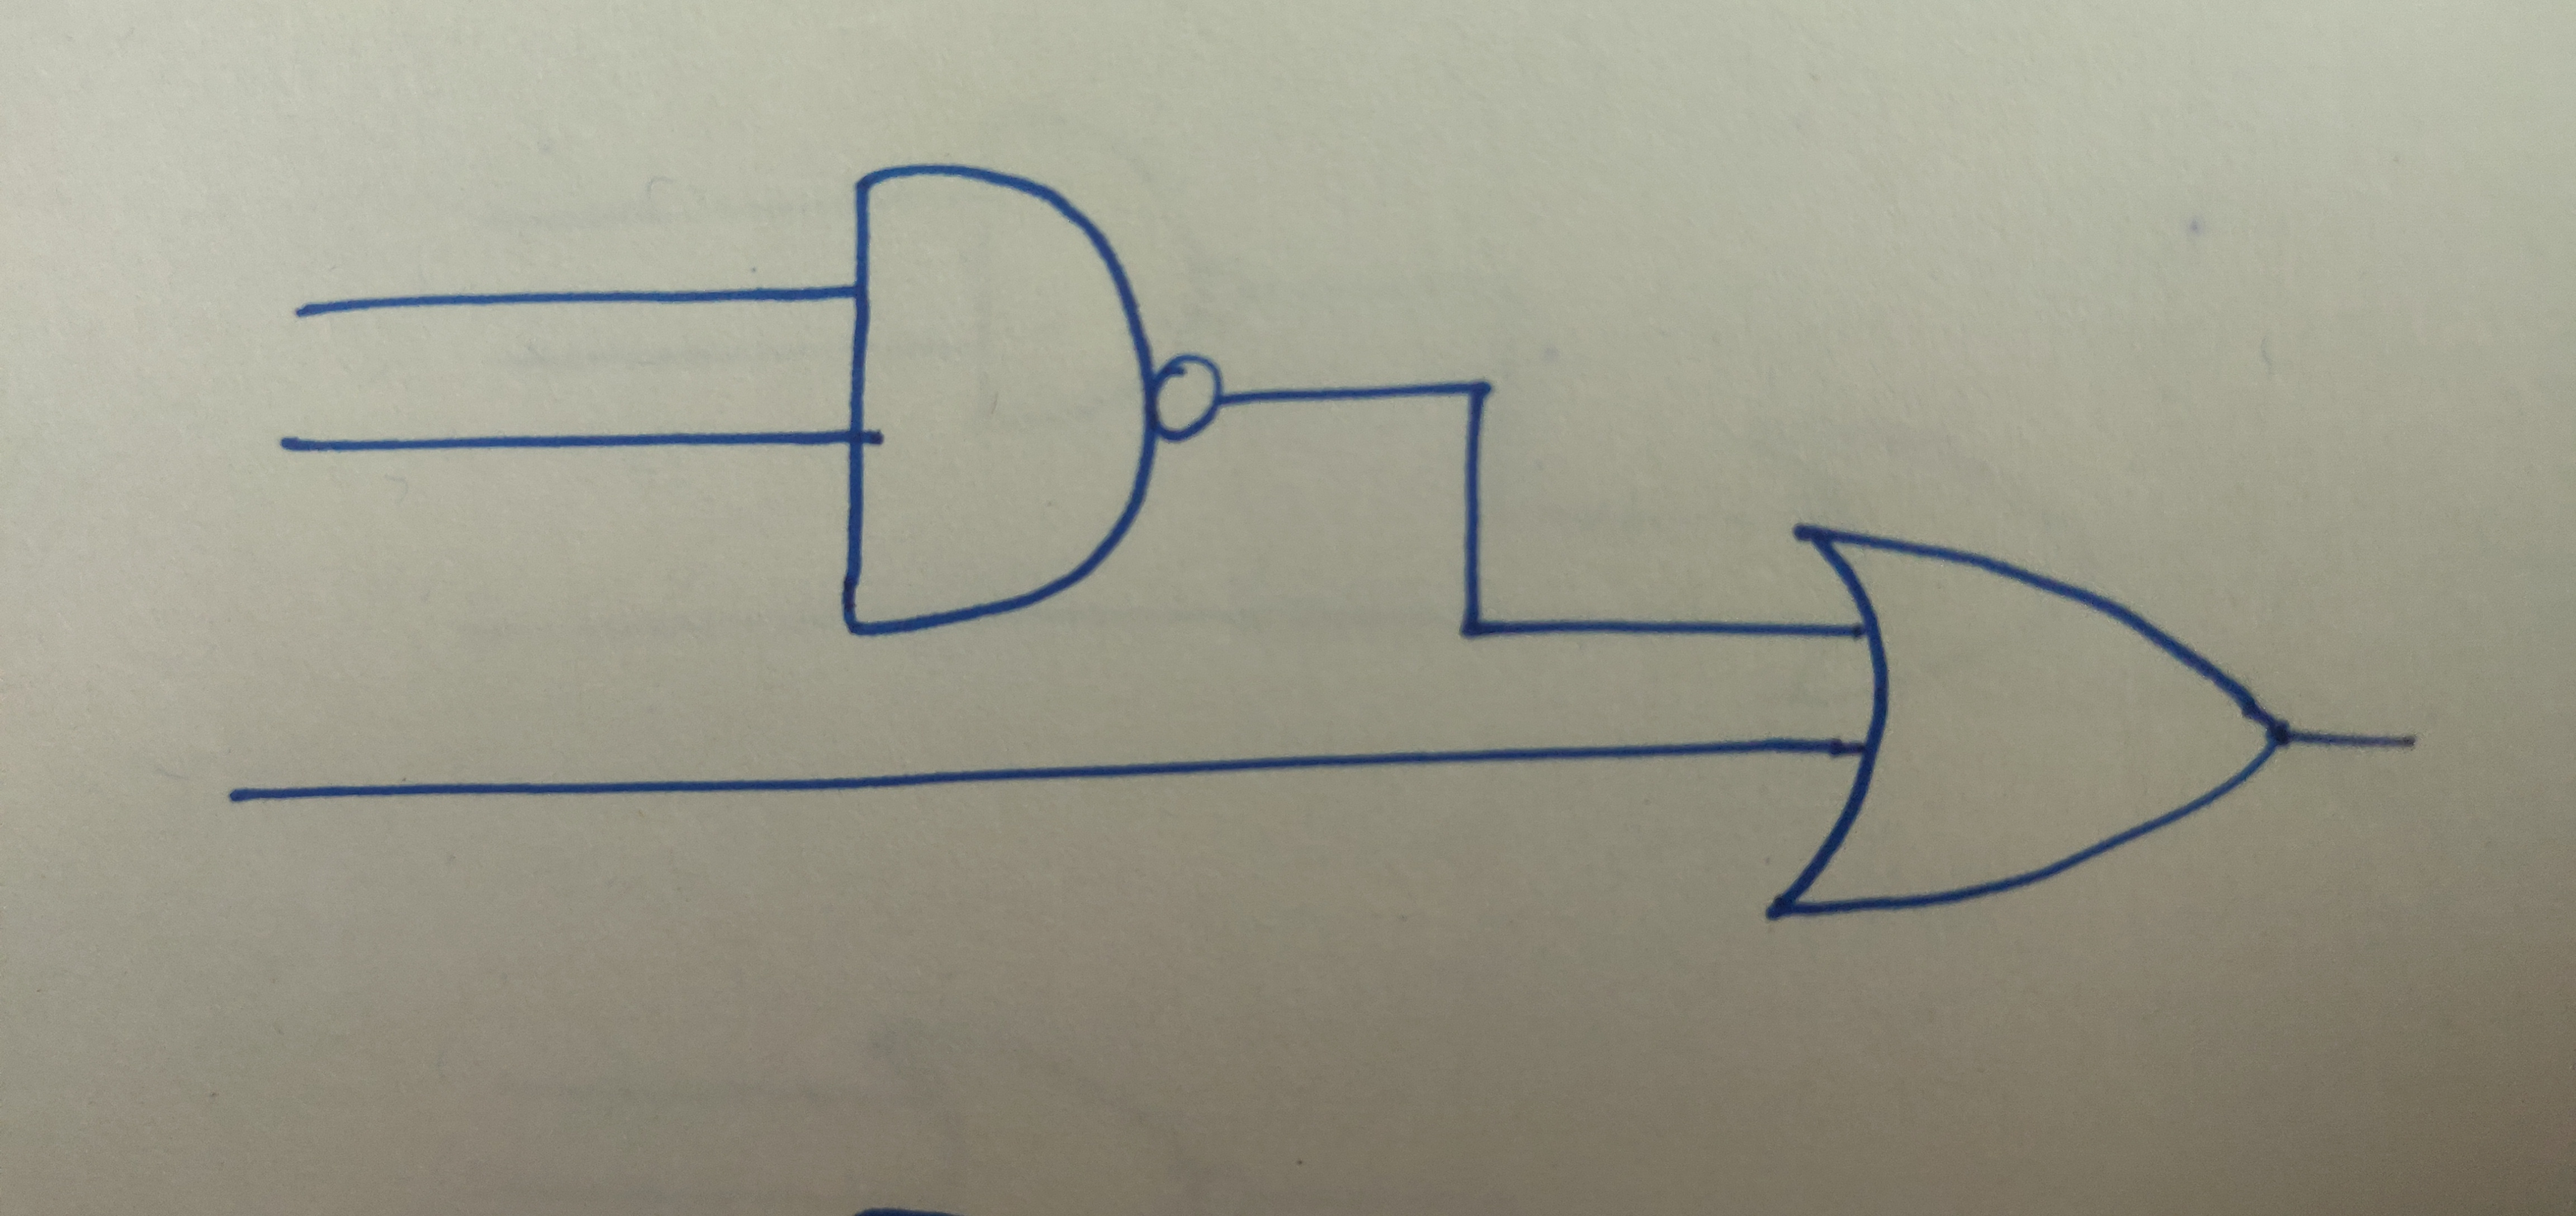and: (848, 164, 1160, 641)
not: (1153, 352, 1229, 454)
or: (1764, 516, 2297, 924)
